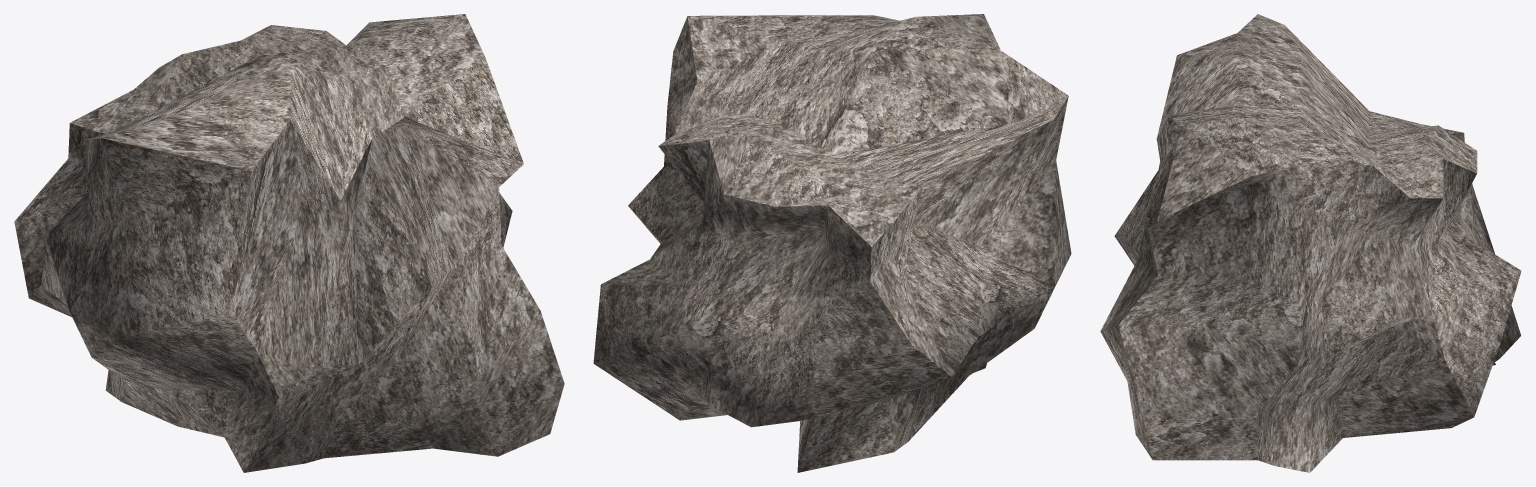
File: stone2.FBX
3 renders of one model, left to right at view 1: azimuth 30°, elevation 25°; view 2: azimuth 150°, elevation 25°; view 3: azimuth 270°, elevation 25°, orthographic. The views are drawn at different scales.
Parts seen in each view (by area): view 1: Box002; view 2: Box002; view 3: Box002.
Part boxes in pixels (<box>): Box002: <box>14,14,564,472</box>; Box002: <box>593,14,1071,472</box>; Box002: <box>1100,14,1521,472</box>.
Size of the model in its own units: 40.68 by 32.72 by 39.49.
